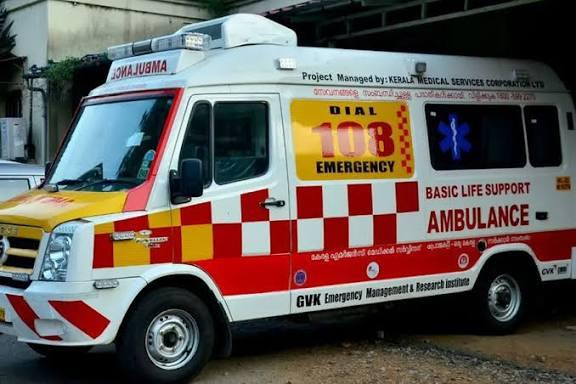ambulance: (6, 13, 569, 379)
